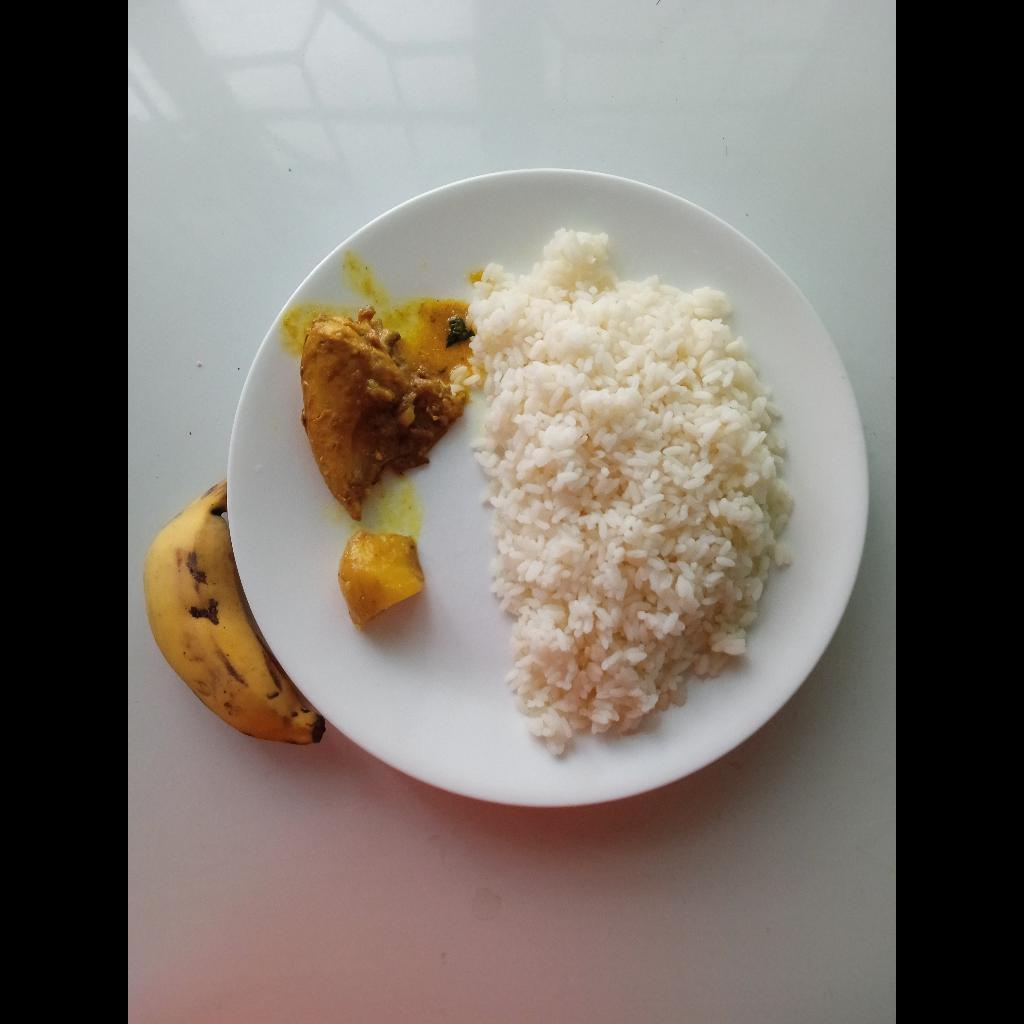banana: (140, 476, 321, 745)
chicken: (298, 322, 458, 518)
potato: (343, 529, 425, 625)
rice: (460, 226, 786, 751)
